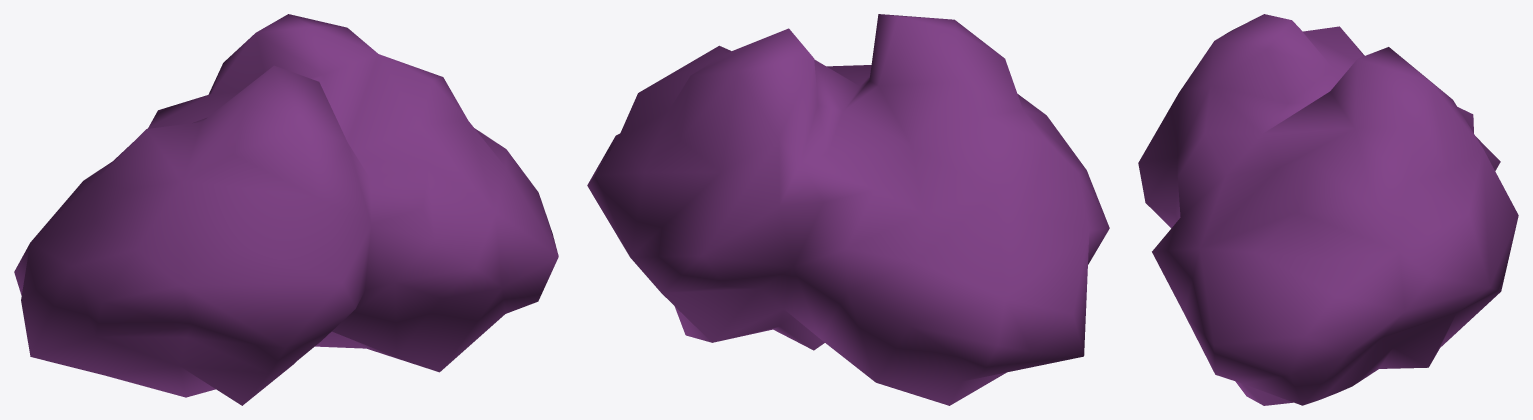
The model's file is Mgenitalium_dhak_1uoe_0_1_0.dae.
The picture shows the model from 3 angles, left to right: view 1: azimuth 30°, elevation 25°; view 2: azimuth 150°, elevation 25°; view 3: azimuth 270°, elevation 25°; orthographic projection. The views are drawn at different scales.
Visible parts, largest first — view 1: CoarseMS_1uoe; view 2: CoarseMS_1uoe; view 3: CoarseMS_1uoe.
Part boxes in pixels (box(x1,y1,x2,y2)): CoarseMS_1uoe: box(14, 14, 558, 405); CoarseMS_1uoe: box(587, 14, 1109, 405); CoarseMS_1uoe: box(1138, 14, 1518, 405).
Bounding box in the file's own units: 89.69 × 56.6 × 62.88.
